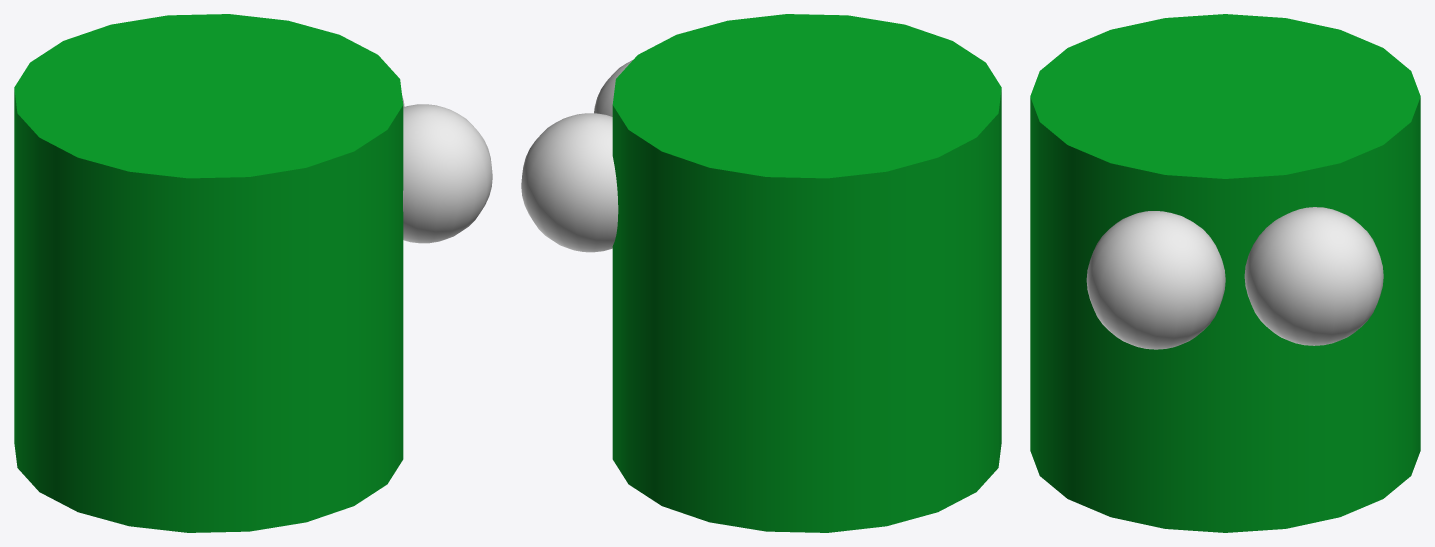
Rendered from player.fbx.
The picture shows the model from 3 angles, left to right: view 1: azimuth 30°, elevation 25°; view 2: azimuth 150°, elevation 25°; view 3: azimuth 270°, elevation 25°; orthographic projection.
Visible parts, largest first — view 1: pCylinder2, pasted__pSphere1; view 2: pCylinder2, pSphere1, pasted__pSphere1; view 3: pCylinder2, pasted__pSphere1, pSphere1.
Part boxes in pixels (x1,y1,x2,y2): pCylinder2: (14,14,403,532); pasted__pSphere1: (403,104,492,243); pCylinder2: (612,14,1001,532); pSphere1: (521,113,618,252); pasted__pSphere1: (594,60,632,116); pCylinder2: (1030,14,1420,532); pasted__pSphere1: (1086,211,1225,349); pSphere1: (1244,207,1383,345).
Size of the model in its own units: 2.42 by 2 by 2.
